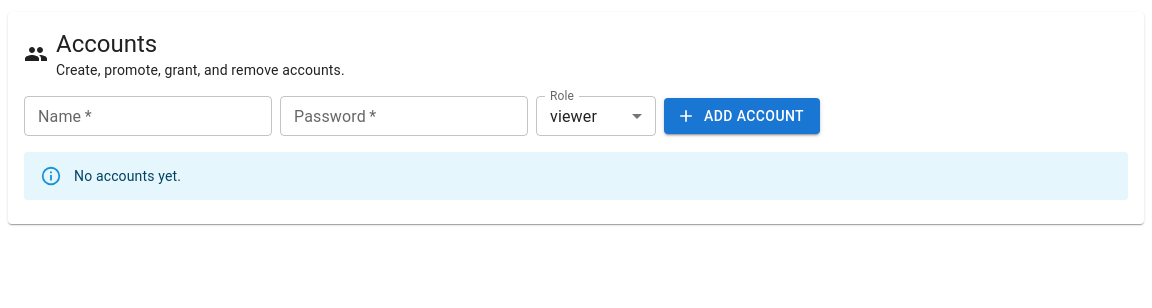
Test case: submitting the create form appends the new row without a page reload
The image size is (1152, 308).
Expected: the text "No accounts yet." is shown, left=74, top=168, right=181, bottom=184
Type "bob" into the field labelled "Name *" at (148, 116), box left=24, top=96, right=272, bottom=136
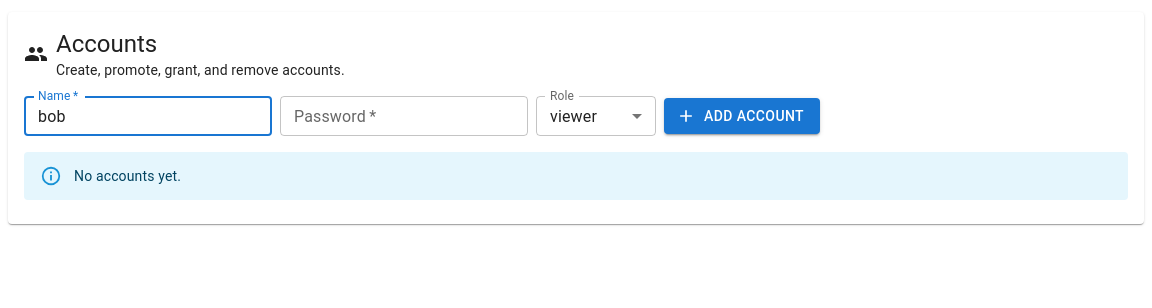
Type "s3cret" into the password field labelled "Password *" at (404, 116), box left=280, top=96, right=528, bottom=136
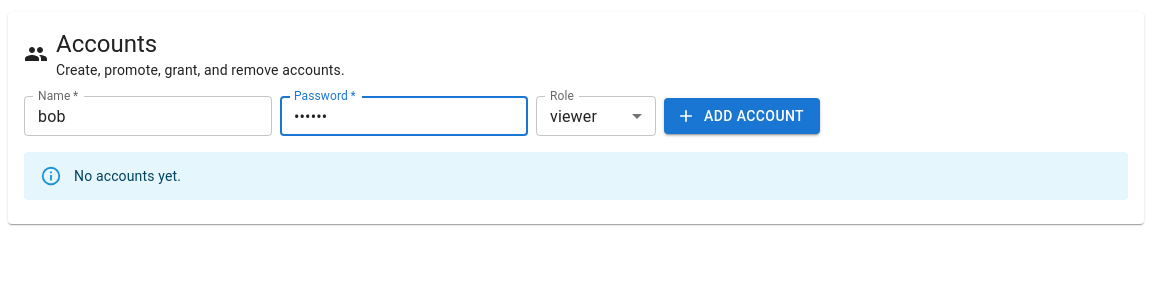
Click the button "Add account" at (742, 116), box left=664, top=98, right=820, bottom=134
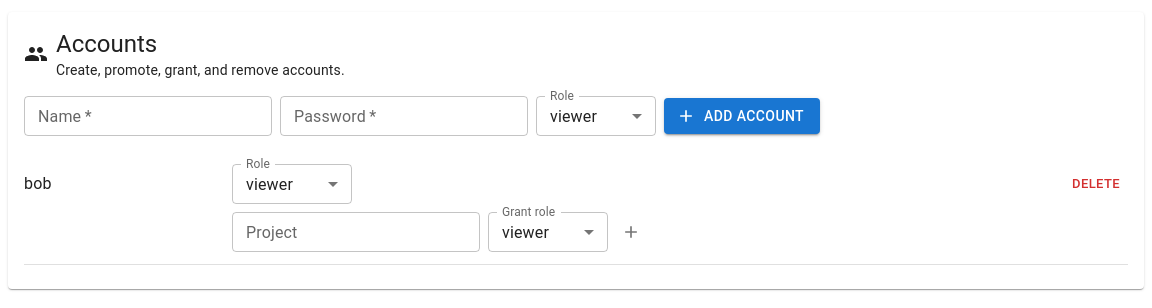
Now the text "bob" is shown, box left=24, top=174, right=52, bottom=193
